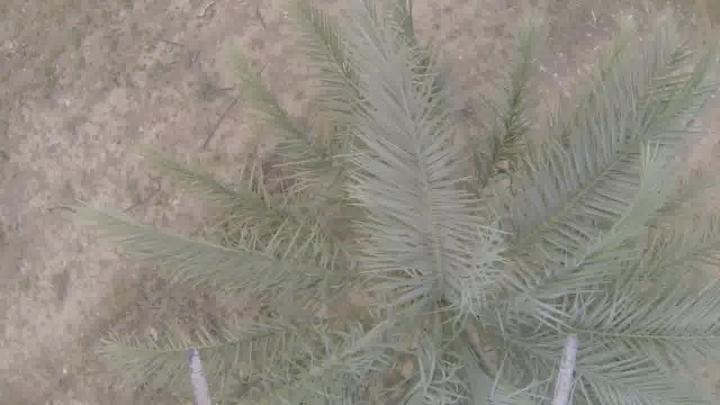Date-Palm-Crown: (238, 109, 648, 404)
